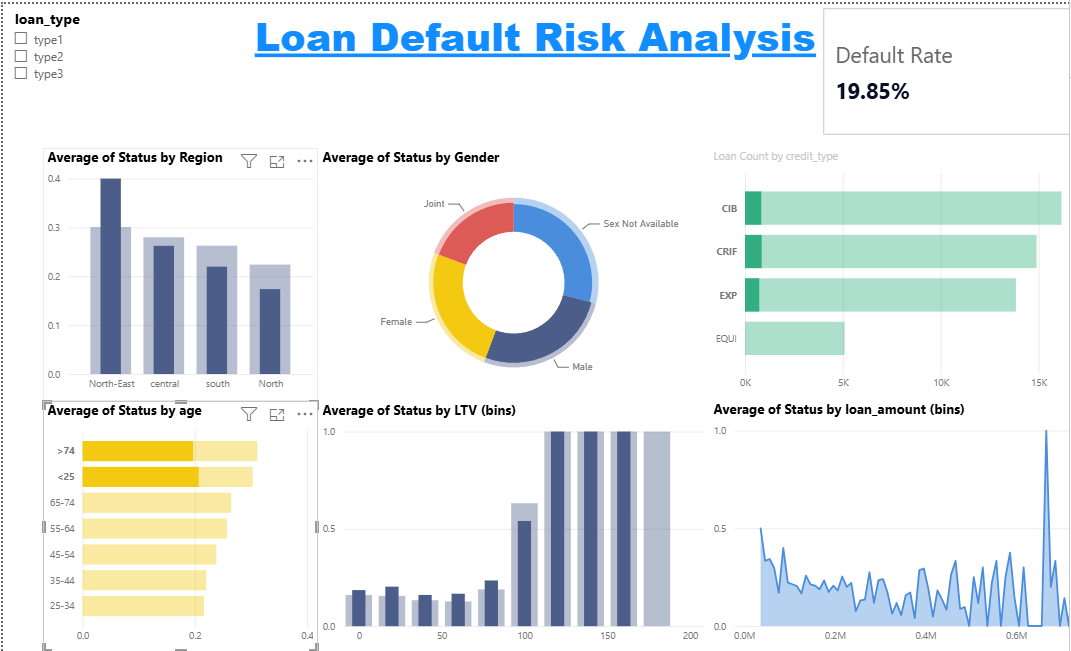

The dashboard page shown, as its layout file describes it:
{"tool":"powerbi","page":{"name":"Dashboard","canvas":[1280,720],"ordinal":0},"visuals":[{"type":"columnChart","fields":{"Category":["loan_sample.Region"],"Y":["Avg(loan_sample.Status)"]},"box":[44.7,160.5,305.4,280.1],"z":0},{"type":"clusteredBarChart","fields":{"Category":["loan_sample.age"],"Y":["Avg(loan_sample.Status)"]},"box":[44.7,440.6,305.4,279.1],"z":1000},{"type":"clusteredBarChart","fields":{"Category":["loan_sample.Gender"],"Y":["Avg(loan_sample.Status)"]},"box":[350.2,160.5,434.8,279.1],"z":2000},{"type":"donutChart","fields":{"Category":["loan_sample.loan_type"],"Y":["Avg(loan_sample.Status)"]},"box":[784.9,160.5,495.1,280.1],"z":3000},{"type":"clusteredColumnChart","fields":{"Y":["Avg(loan_sample.Status)"],"Category":["loan_sample.LTV (bins)"]},"box":[350.2,440.6,434.8,279.1],"z":4000},{"type":"areaChart","fields":{"Category":["loan_sample.loan_amount (bins)"],"Y":["Avg(loan_sample.Status)"]},"box":[784.9,439.6,459.1,280.1],"z":5000},{"type":"textbox","box":[146.3,0,889.8,71.4],"z":6000},{"type":"slicer","fields":{"Values":["loan_sample.loan_type"]},"box":[0,0,127.3,149.9],"z":6001},{"type":"cardVisual","fields":{"Data":["Table.Default Rate"]},"box":[906.7,0,365.6,150],"z":6002}]}

Visuals, with their boxes on the page's 1280x720 design canvas (x1, y1, x2, y2). These are canvas units, not pixel positions in the 1071x651 screenshot, which may show the page scaled, cropped or inside an application window:
columnChart - loan_sample.Region x Avg(loan_sample.Status): select_region(45, 160, 350, 441)
clusteredBarChart - loan_sample.age x Avg(loan_sample.Status): select_region(45, 441, 350, 720)
clusteredBarChart - loan_sample.Gender x Avg(loan_sample.Status): select_region(350, 160, 785, 440)
donutChart - loan_sample.loan_type x Avg(loan_sample.Status): select_region(785, 160, 1280, 441)
clusteredColumnChart - Avg(loan_sample.Status) x loan_sample.LTV (bins): select_region(350, 441, 785, 720)
areaChart - loan_sample.loan_amount (bins) x Avg(loan_sample.Status): select_region(785, 440, 1244, 720)
textbox: select_region(146, 0, 1036, 71)
slicer - loan_sample.loan_type: select_region(0, 0, 127, 150)
cardVisual - Table.Default Rate: select_region(907, 0, 1272, 150)
